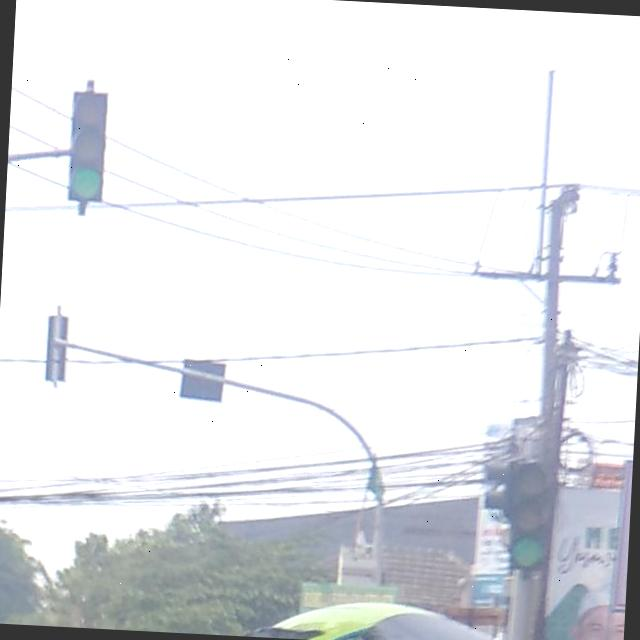green_light: (506, 461, 553, 578), (65, 88, 108, 201)
